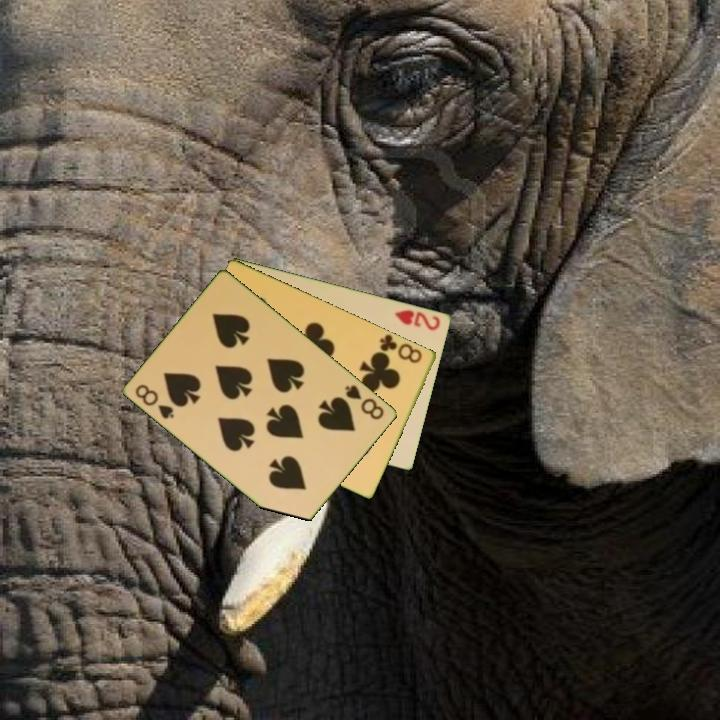2h: (391, 306, 444, 333)
8c: (374, 331, 425, 366)
8s: (342, 381, 387, 423), (132, 381, 178, 422)
